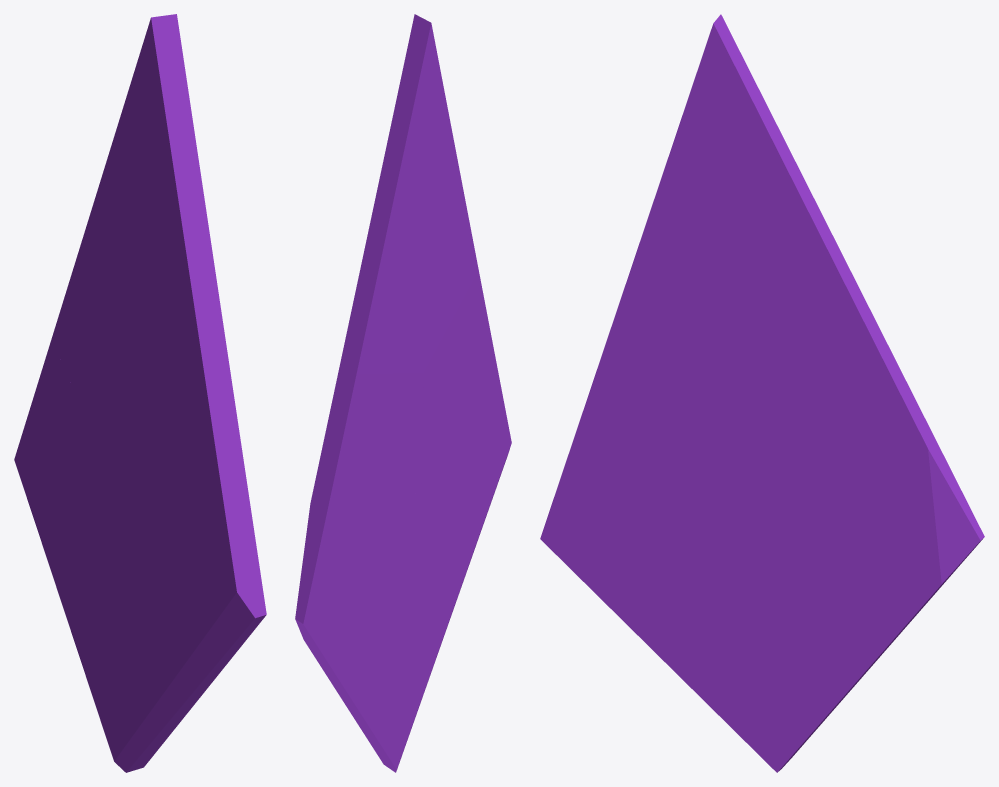
The model's file is Window_14_2_chunks.fbx.
3 views of the same model, side by side, from view 1: azimuth 30°, elevation 25°; view 2: azimuth 150°, elevation 25°; view 3: azimuth 270°, elevation 25° (orthographic). The views are drawn at different scales.
Parts seen in each view (by area): view 1: Window_14_2_3, Window_14_2_0, Window_14_2_1, Window_14_2_4, Window_14_2_6; view 2: Window_14_2_3, Window_14_2_1, Window_14_2_0, Window_14_2_6, Window_14_2_4, Window_14_2_5; view 3: Window_14_2_3, Window_14_2_0, Window_14_2_1, Window_14_2_4, Window_14_2_5, Window_14_2_2.
Part boxes in pixels (x1,y1,x2,y2): Window_14_2_3: [71, 14, 226, 378]; Window_14_2_0: [107, 495, 266, 772]; Window_14_2_1: [14, 340, 122, 741]; Window_14_2_4: [140, 348, 249, 501]; Window_14_2_6: [51, 276, 142, 495]; Window_14_2_3: [340, 14, 478, 375]; Window_14_2_1: [295, 459, 405, 759]; Window_14_2_0: [374, 375, 511, 772]; Window_14_2_6: [331, 372, 423, 507]; Window_14_2_4: [421, 270, 498, 484]; Window_14_2_5: [320, 363, 350, 460]; Window_14_2_3: [617, 14, 874, 378]; Window_14_2_0: [540, 442, 803, 772]; Window_14_2_1: [777, 396, 984, 748]; Window_14_2_4: [573, 310, 748, 495]; Window_14_2_5: [739, 326, 911, 499]; Window_14_2_2: [713, 490, 782, 584].
Bounding box in the file's own units: 27.2 × 928 × 497.
